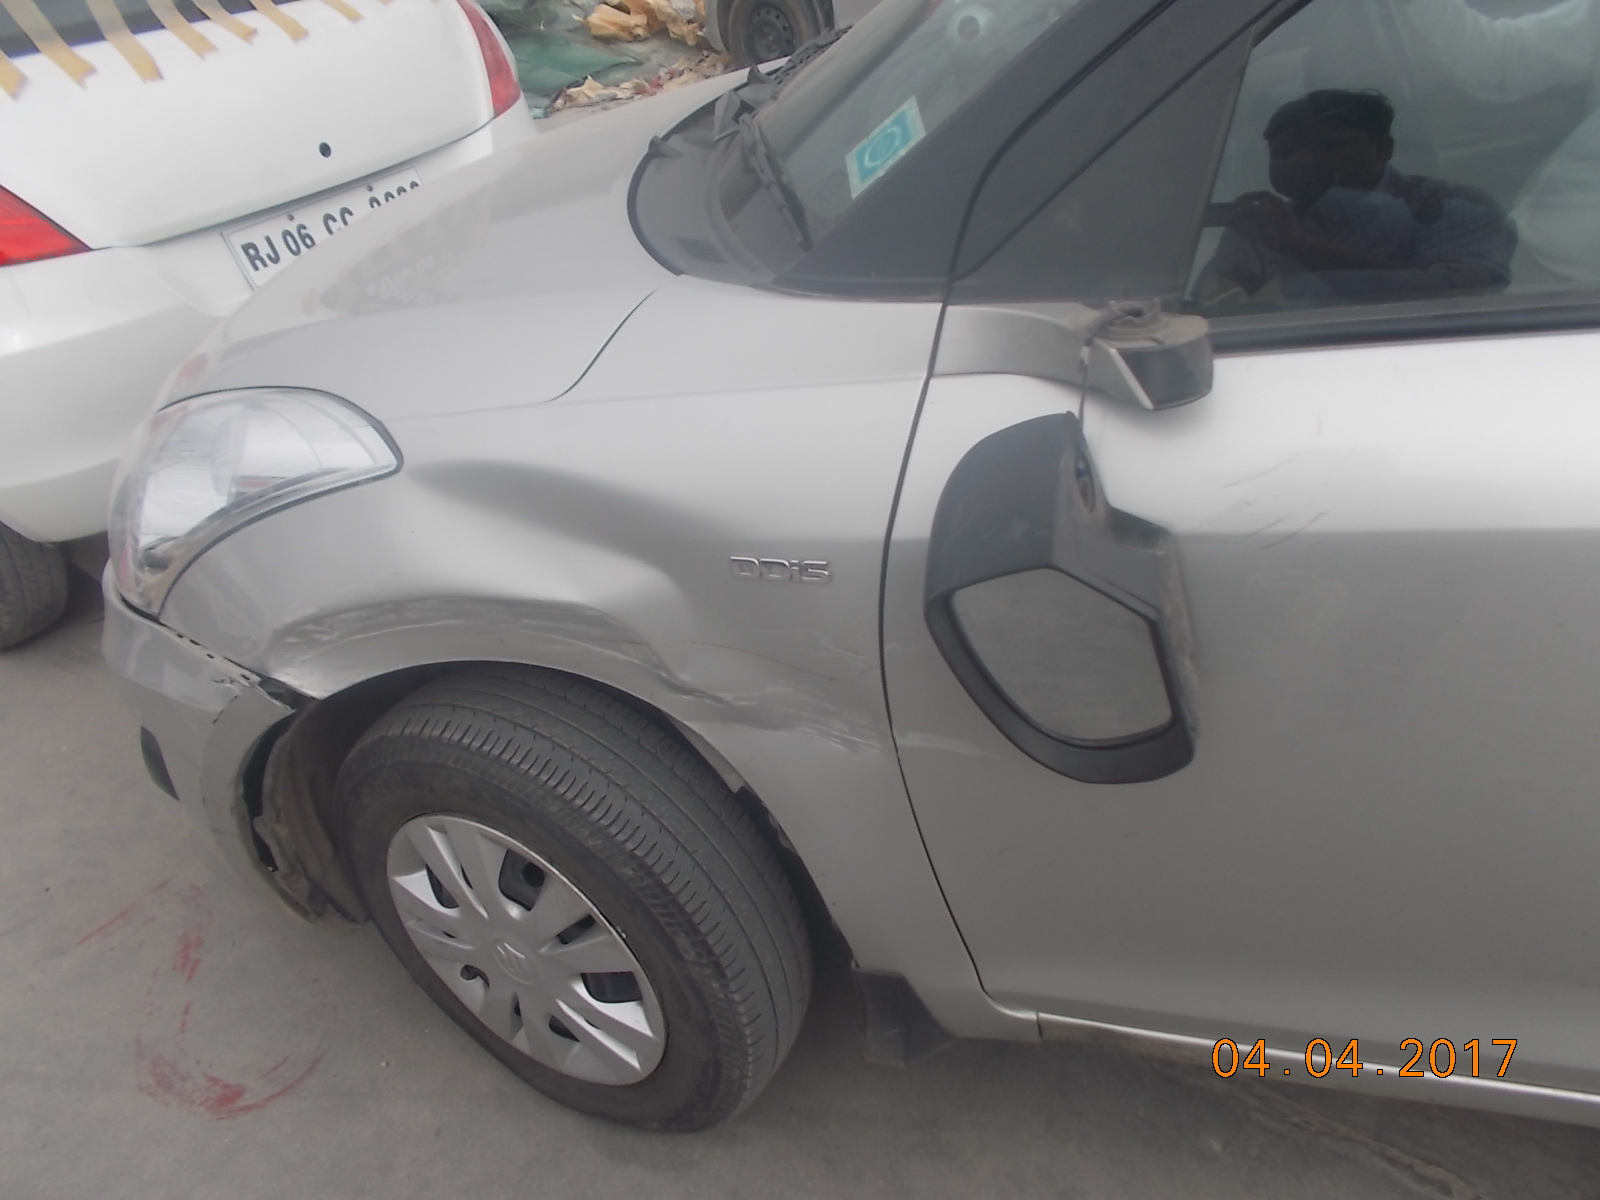Dent: (393, 440, 731, 666)
